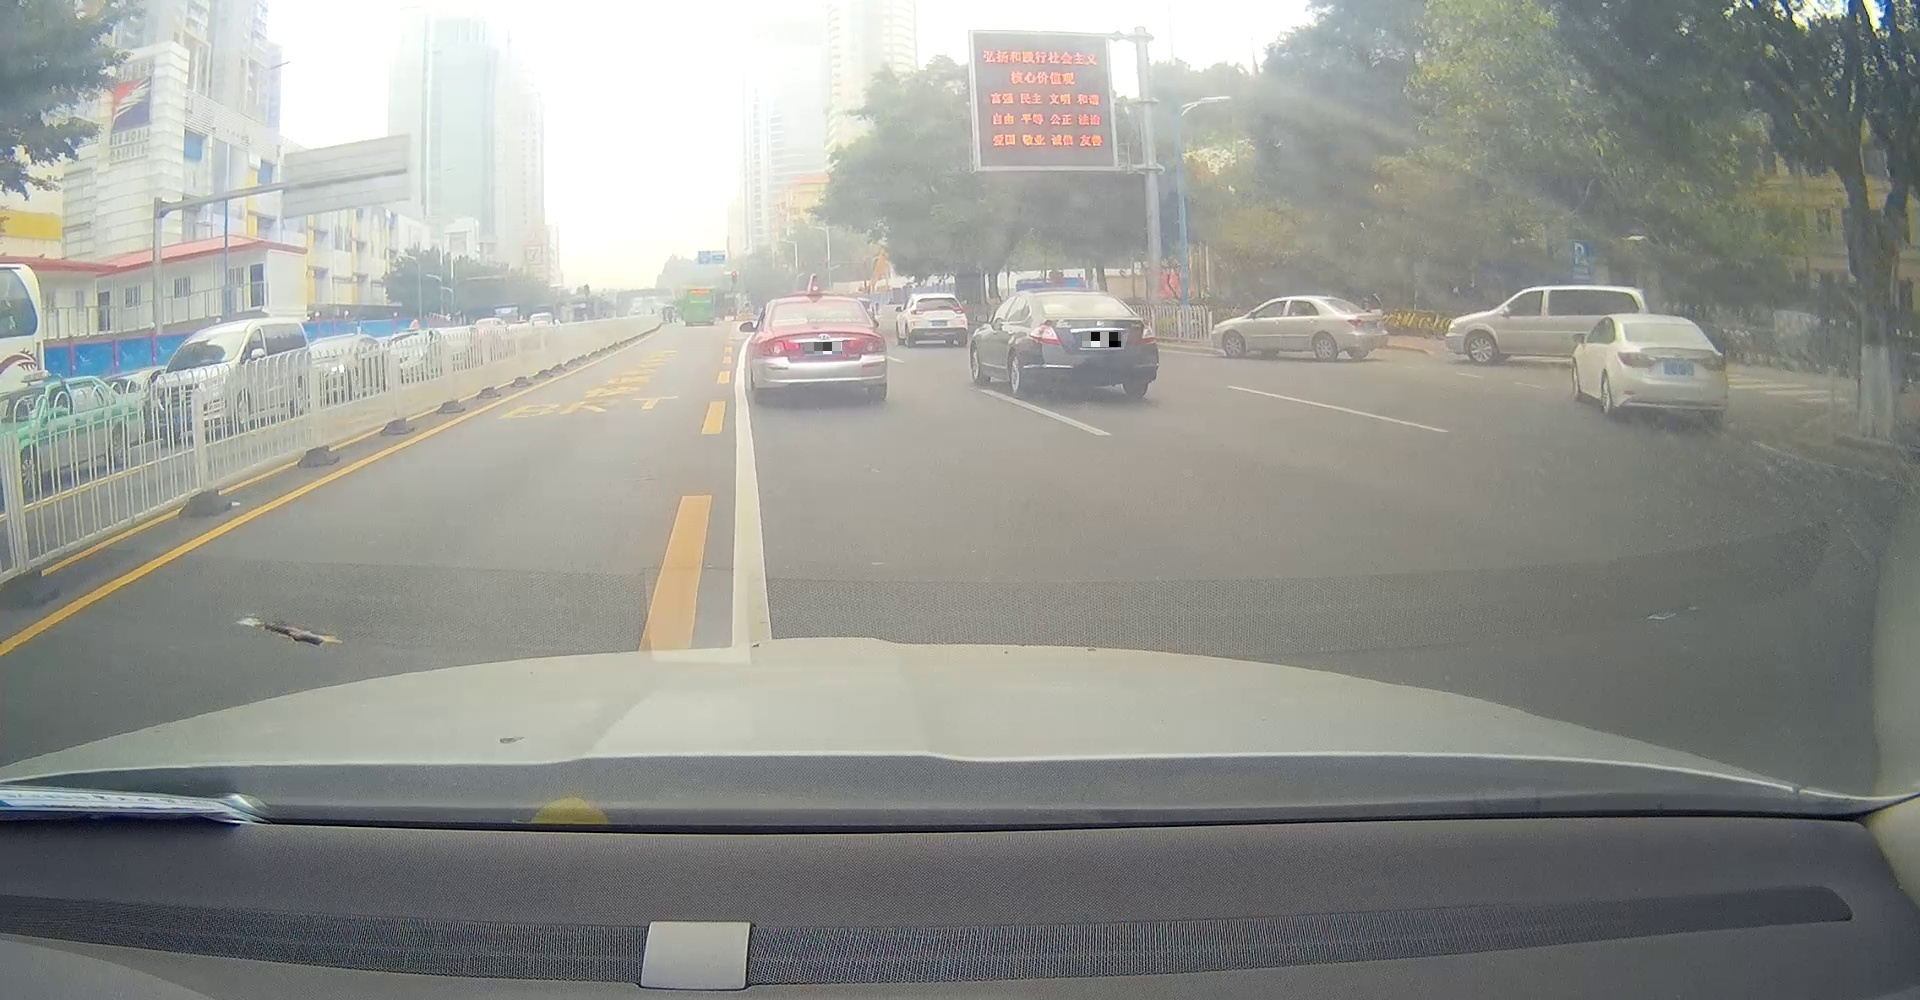L_light: (1029, 326, 1062, 346), (762, 340, 799, 357), (1618, 352, 1655, 368), (910, 308, 924, 315)
R_light: (850, 336, 883, 353), (1698, 357, 1726, 371), (1138, 324, 1156, 344), (952, 308, 964, 313)
T_light: (1655, 322, 1670, 327), (1070, 294, 1084, 298), (808, 302, 823, 305), (932, 298, 941, 301)
day-no: (1027, 288, 1161, 400), (759, 296, 886, 401), (1613, 313, 1730, 424), (909, 293, 968, 346)
plate_1: (805, 341, 842, 354)
plate_2: (1082, 332, 1121, 346)
